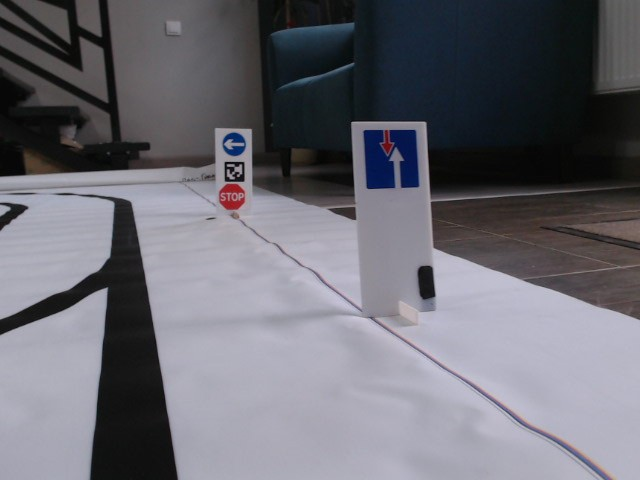Stop: (218, 183, 246, 209)
priority_movement: (361, 128, 420, 189)
